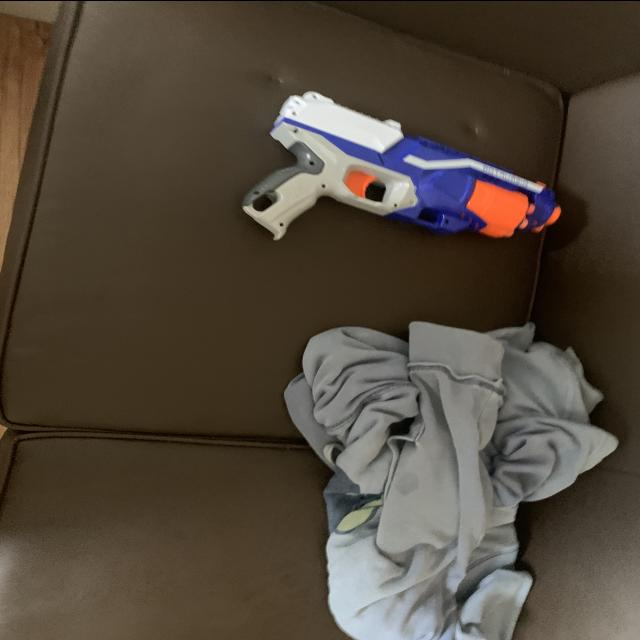nerf-maverik: (224, 81, 572, 252)
